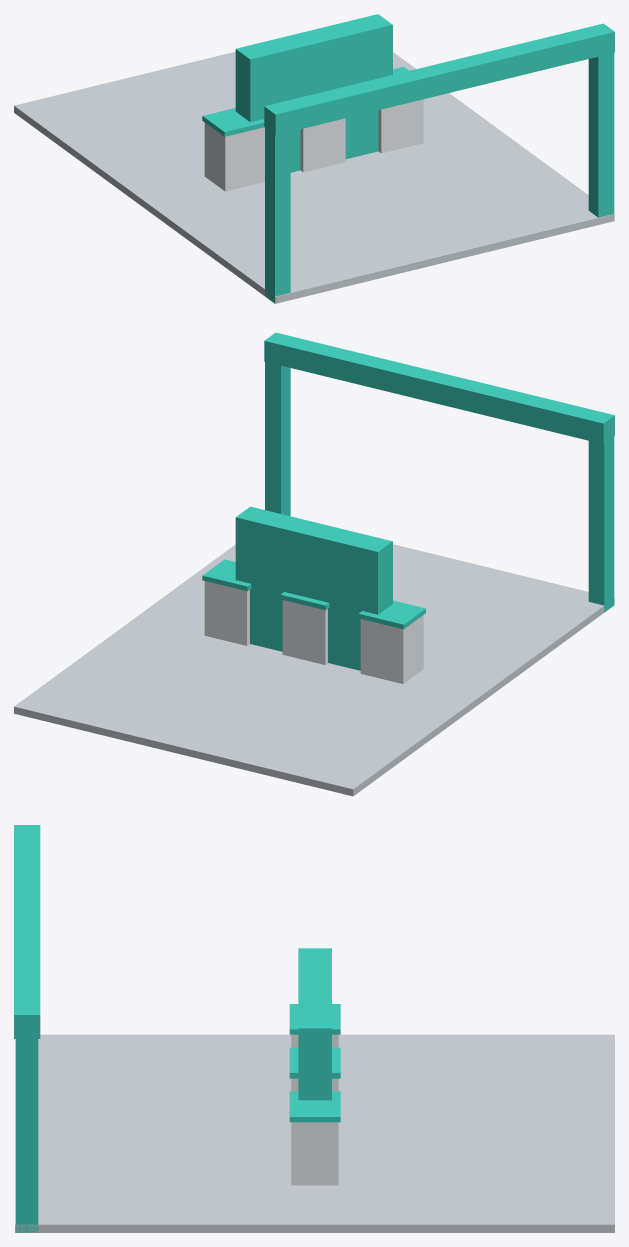
The picture shows the model from 3 angles, top to bottom: view 1: azimuth 30°, elevation 25°; view 2: azimuth 150°, elevation 25°; view 3: azimuth 270°, elevation 25°; orthographic projection. The views are drawn at different scales.
Parts seen in each view (by area): view 1: Exhibition Booth Concept; view 2: Exhibition Booth Concept; view 3: Exhibition Booth Concept.
Boxes of the visible parts, bbox=[...] form: Exhibition Booth Concept: bbox=[14, 14, 614, 303]; Exhibition Booth Concept: bbox=[14, 332, 614, 796]; Exhibition Booth Concept: bbox=[14, 825, 614, 1232].
Size of the model in its own units: 6 by 3.2 by 8.01.
